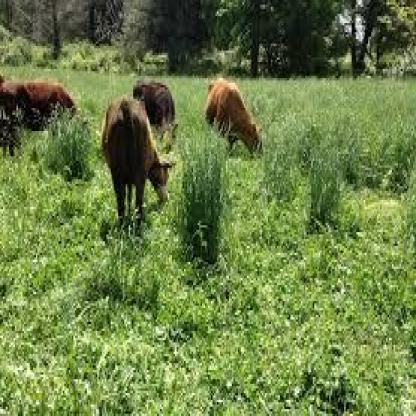cow: (101, 94, 176, 223), (202, 79, 265, 153), (0, 75, 82, 130), (129, 80, 176, 129)
